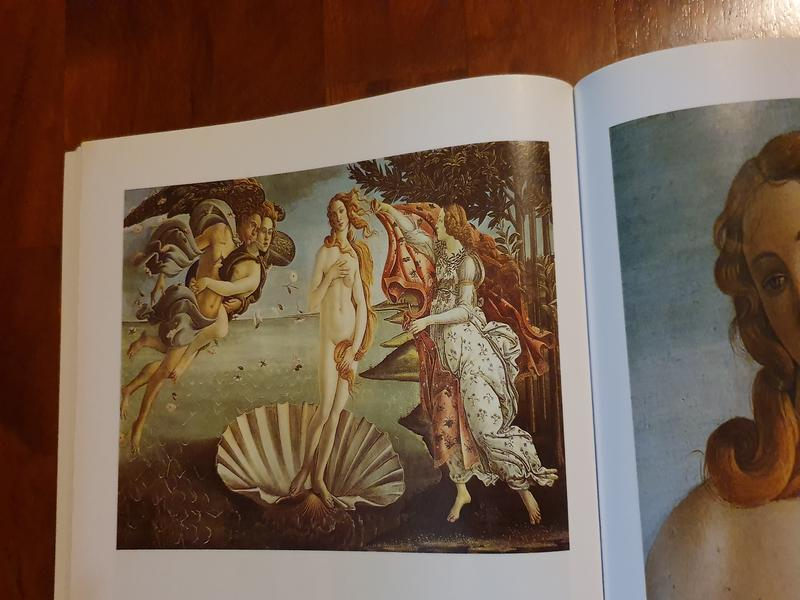Venere: (115, 141, 578, 551)
